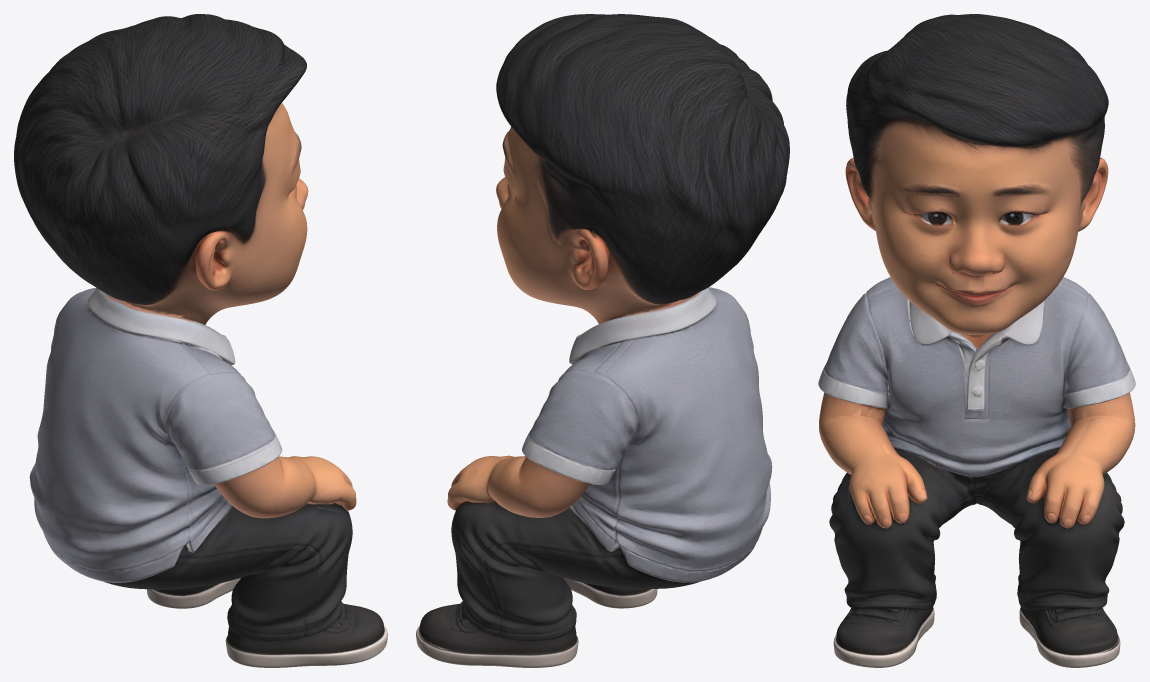
3 renders of one model, left to right at view 1: azimuth 30°, elevation 25°; view 2: azimuth 150°, elevation 25°; view 3: azimuth 270°, elevation 25°, orthographic. The views are drawn at different scales.
Parts seen in each view (by area): view 1: tripo_node_932a9352-2849-450a-9baf-804deac32598; view 2: tripo_node_932a9352-2849-450a-9baf-804deac32598; view 3: tripo_node_932a9352-2849-450a-9baf-804deac32598.
Part boxes in pixels (x1,y1,x2,y2): tripo_node_932a9352-2849-450a-9baf-804deac32598: (14,14,387,667); tripo_node_932a9352-2849-450a-9baf-804deac32598: (416,14,789,667); tripo_node_932a9352-2849-450a-9baf-804deac32598: (818,14,1135,667).
Size of the model in its own units: 0.4939 by 0.9801 by 0.4929.
1 material, 1 textured.
